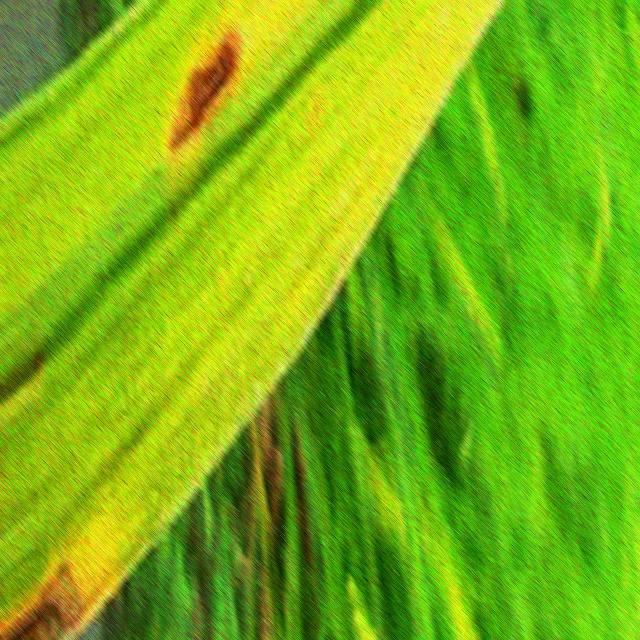NBS: (169, 27, 240, 150), (0, 557, 90, 640), (312, 99, 319, 117)
